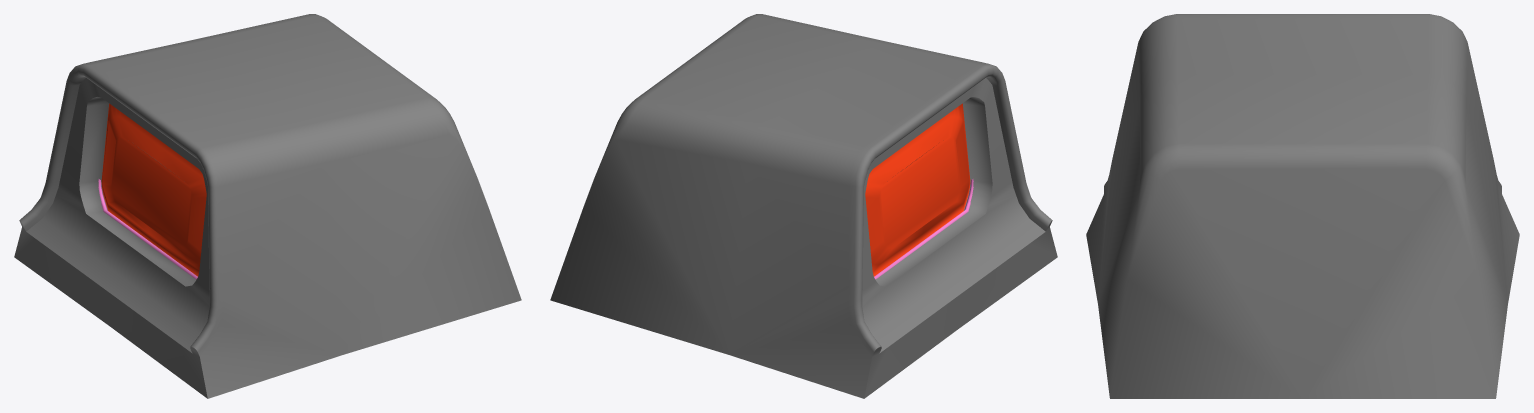
Rendered from SM_Case.fbx.
3 renders of one model, left to right at view 1: azimuth 30°, elevation 25°; view 2: azimuth 150°, elevation 25°; view 3: azimuth 270°, elevation 25°, orthographic. The views are drawn at different scales.
Visible parts, largest first — view 1: MonitorCase; view 2: MonitorCase; view 3: MonitorCase.
Part boxes in pixels (x1,y1,x2,y2): MonitorCase: (14, 14, 521, 398); MonitorCase: (550, 14, 1057, 398); MonitorCase: (1086, 14, 1519, 398).
Bounding box in the file's own units: 6.27 × 3.87 × 6.38.
